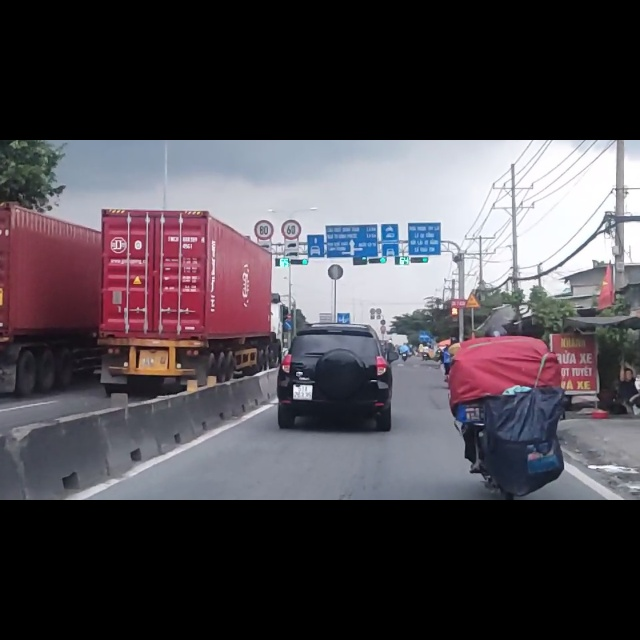bien_cam: (281, 140, 302, 179), (255, 142, 273, 178), (465, 270, 480, 299), (284, 321, 293, 337), (286, 308, 292, 318)
